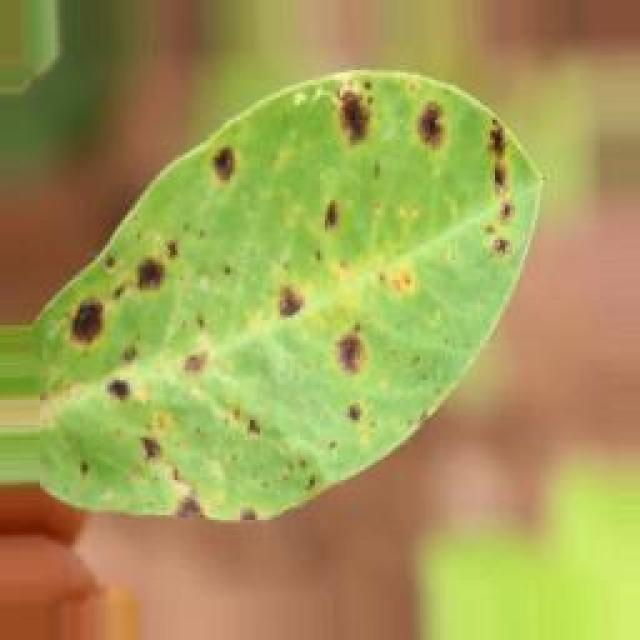Yellowish: (34, 70, 512, 510)
